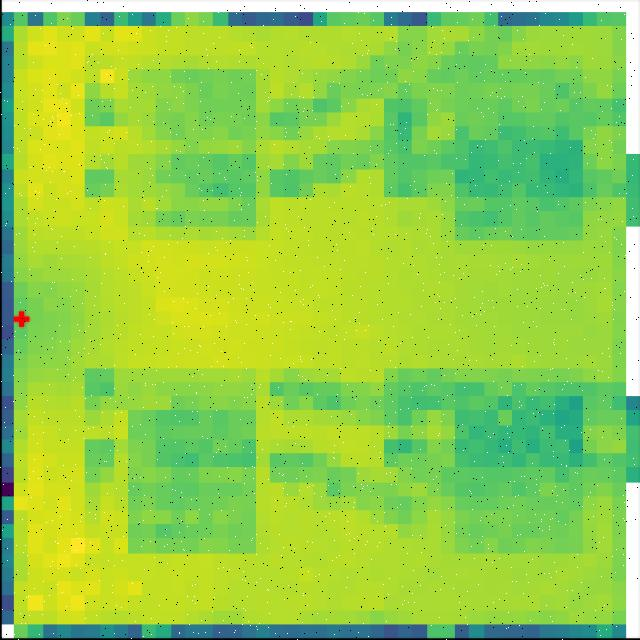Concrete: (128, 370, 258, 554)
Glass: (450, 385, 586, 553)
Metal: (127, 69, 257, 241)
Wood: (452, 69, 584, 240)
